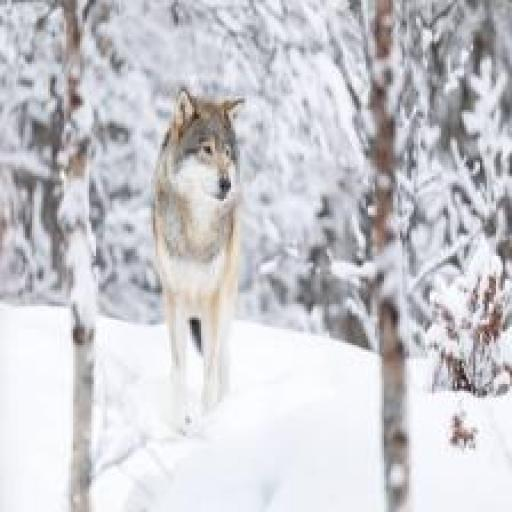wolf: (112, 30, 320, 454)
